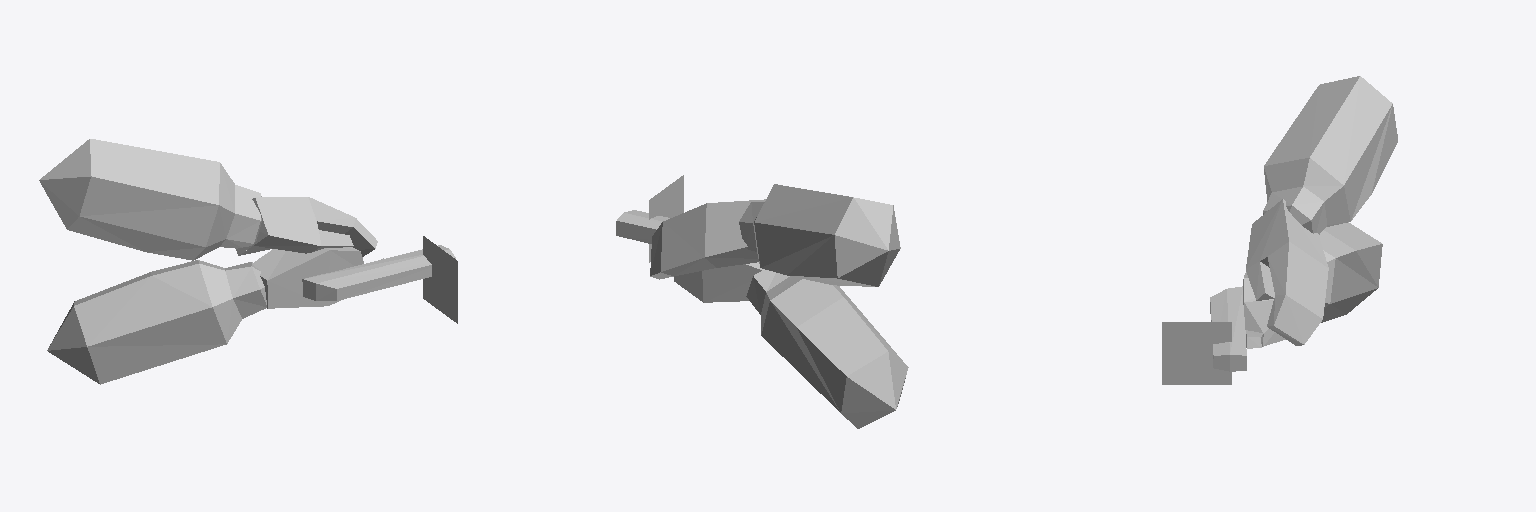
File: vIGORPISTOLMESHout.obj
3 views of the same model, side by side, from view 1: azimuth 30°, elevation 25°; view 2: azimuth 150°, elevation 25°; view 3: azimuth 270°, elevation 25° (orthographic).
Visible parts, largest first — view 1: ElyaMesh.png, muzzle; view 2: ElyaMesh.png, muzzle; view 3: ElyaMesh.png, muzzle.
Part boxes in pixels (x1,y1,x2,y2): ElyaMesh.png: (39,139,455,384); muzzle: (423,236,457,323); ElyaMesh.png: (616,184,908,428); muzzle: (649,175,683,262); ElyaMesh.png: (1210,76,1397,371); muzzle: (1162,322,1231,384).
Size of the model in its own units: 22.16 by 14.89 by 13.45.